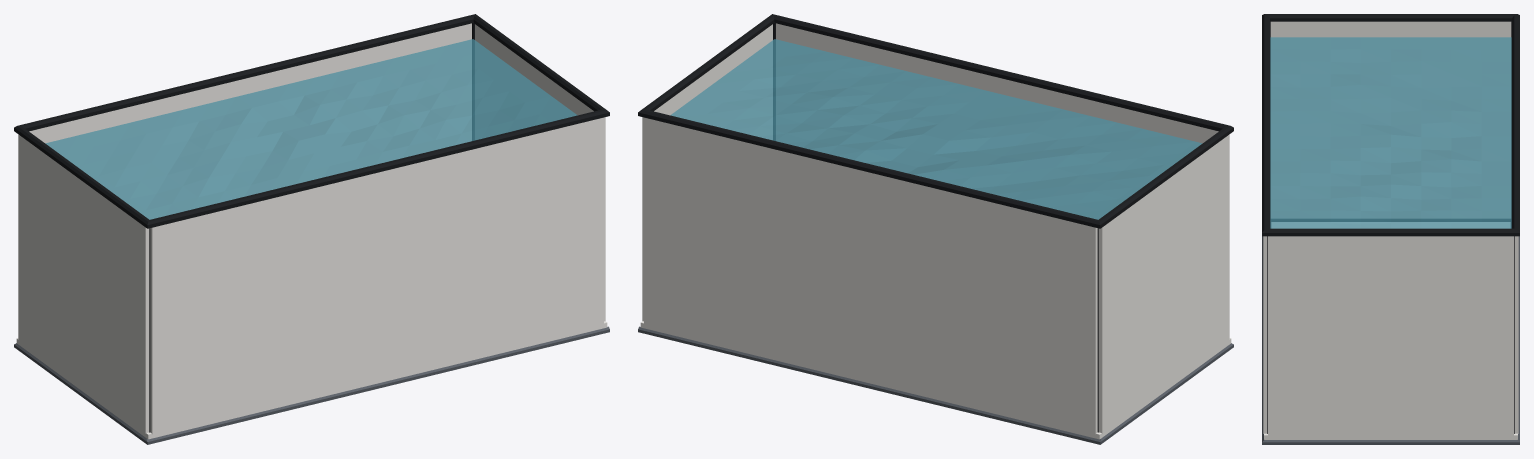
The model's file is rimless-display-tank-cec438.glb.
3 views of the same model, side by side, from view 1: azimuth 30°, elevation 25°; view 2: azimuth 150°, elevation 25°; view 3: azimuth 270°, elevation 25° (orthographic). The views are drawn at different scales.
Visible parts, largest first — view 1: rimless-display-tank, water; view 2: rimless-display-tank, water; view 3: rimless-display-tank, water.
Part boxes in pixels (<box>): rimless-display-tank: <box>14,14,609,444</box>; water: <box>45,39,577,219</box>; rimless-display-tank: <box>638,14,1233,444</box>; water: <box>670,39,1202,219</box>; rimless-display-tank: <box>1262,14,1519,444</box>; water: <box>1270,37,1511,228</box>.
Bounding box in the file's own units: 1.2 × 0.55 × 0.6.
